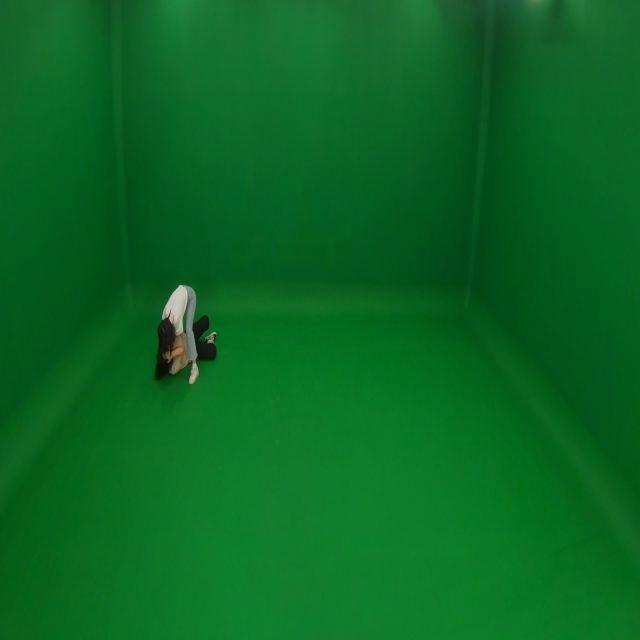fight: (158, 284, 218, 387)
